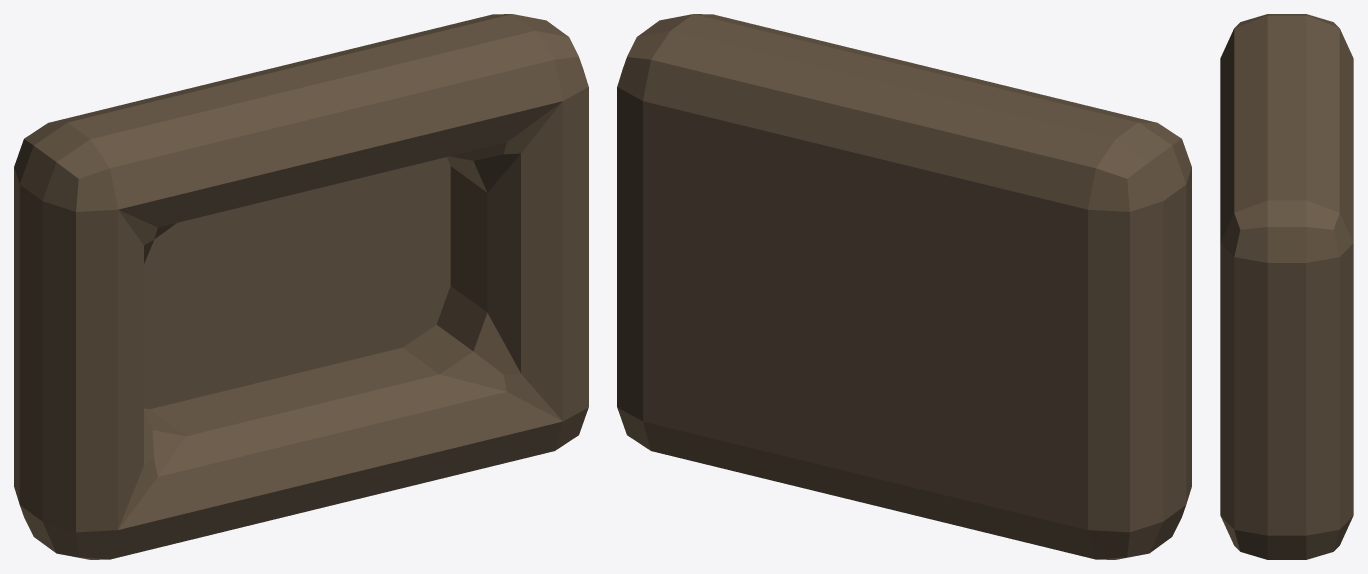
File: Photoframe3.fbx
3 views of the same model, side by side, from view 1: azimuth 30°, elevation 25°; view 2: azimuth 150°, elevation 25°; view 3: azimuth 270°, elevation 25° (orthographic). The views are drawn at different scales.
Parts seen in each view (by area): view 1: Frame2; view 2: Frame2; view 3: Frame2.
Part boxes in pixels (x1,y1,x2,y2): Frame2: (14,14,588,559); Frame2: (617,14,1191,559); Frame2: (1220,14,1353,559).
Bounding box in the file's own units: 28.01 × 20.83 × 7.01.
